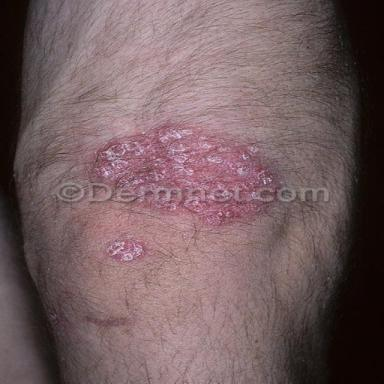Psoriasis: (91, 120, 281, 186), (154, 202, 269, 225), (106, 241, 145, 262)
